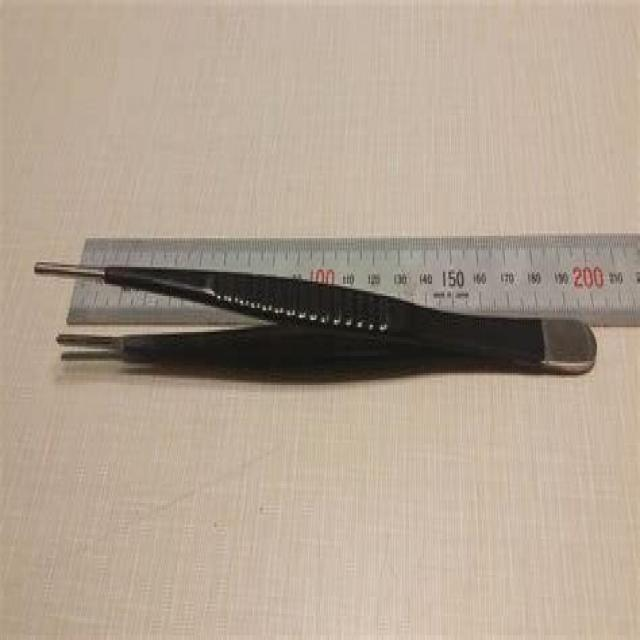Forceps: (32, 255, 600, 388)
